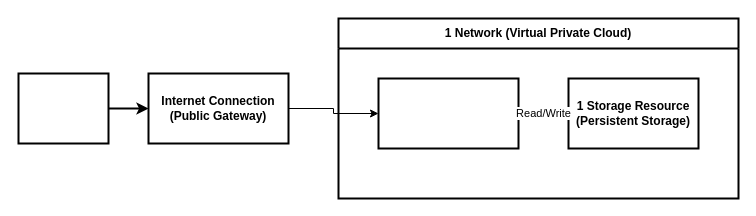
Some shapes in this 756 by 216 pixel diagram are drawn without their labels. Here are the shapes that lost their labels. From the top down, the centre of each, then its label:
[63,108]: 1 User
[448,113]: 1 Compute Resource (Linux Virtual Machine)
